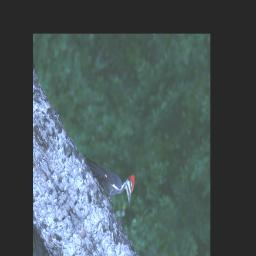Woodpecker: (80, 125, 144, 224)
